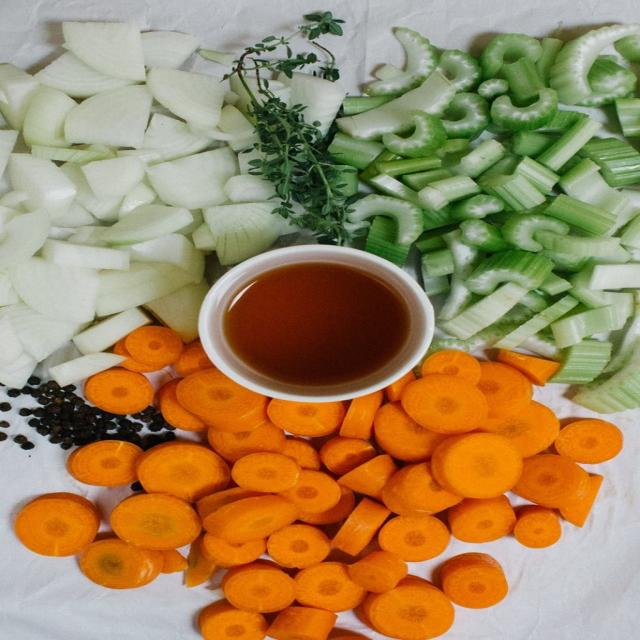Tea: (229, 267, 410, 390)
